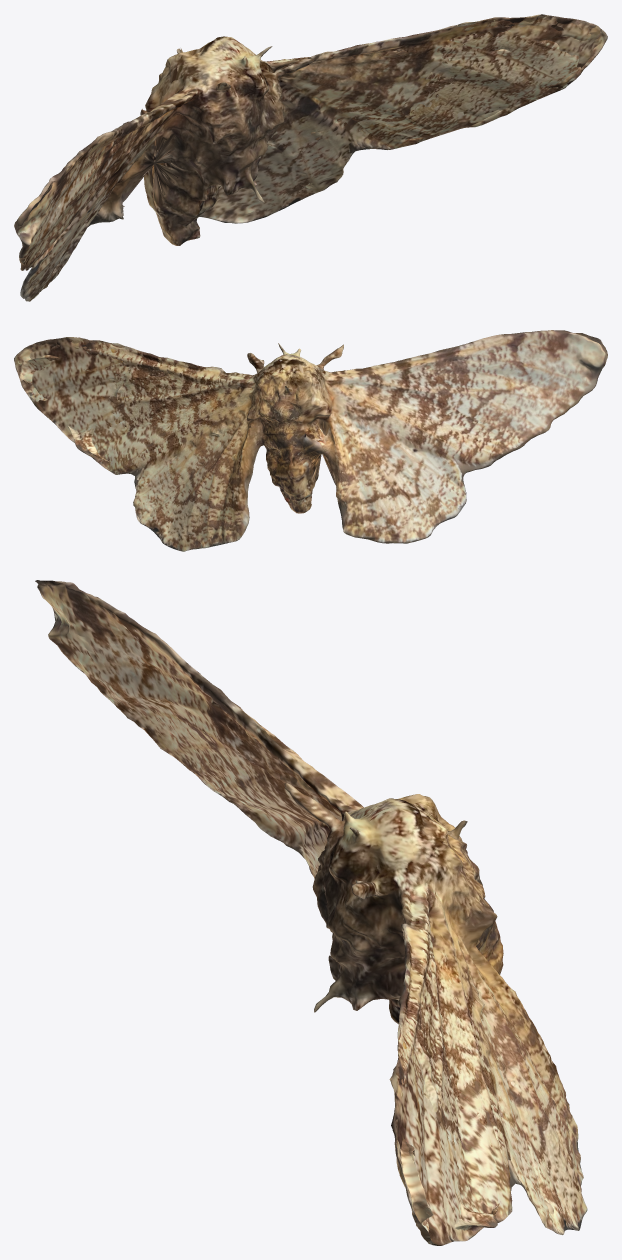
Rendered from deathmoth.glb.
3 renders of one model, top to bottom at view 1: azimuth 30°, elevation 25°; view 2: azimuth 150°, elevation 25°; view 3: azimuth 270°, elevation 25°, orthographic. The views are drawn at different scales.
Visible parts, largest first — view 1: Object_2; view 2: Object_2; view 3: Object_2.
Boxes of the visible parts, x1,y1,x2,y2 form: Object_2: [14, 14, 607, 301]; Object_2: [14, 330, 607, 551]; Object_2: [35, 580, 587, 1245].
Bounding box in the file's own units: 8.96 × 3.25 × 4.26.
1 material, 1 textured.
